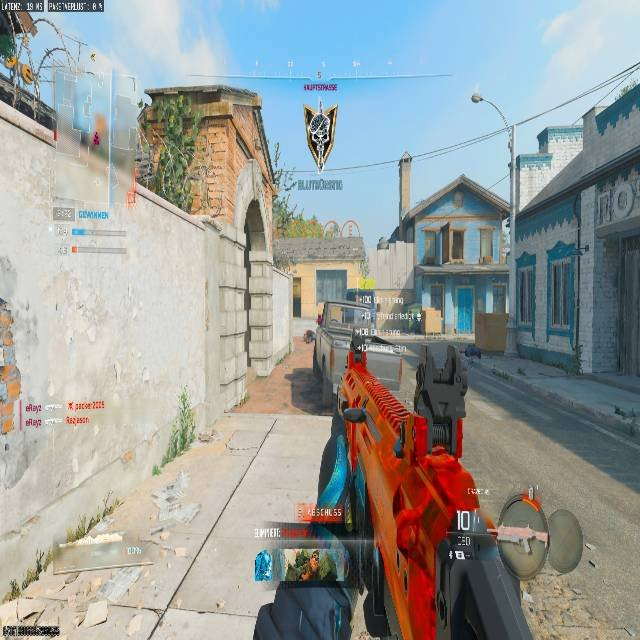player: (248, 535, 359, 639), (303, 328, 315, 344)
